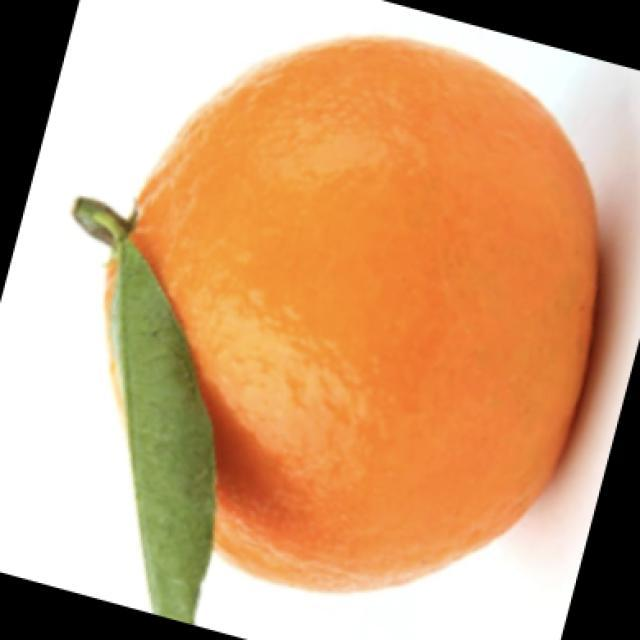Orange: (82, 33, 602, 594)
